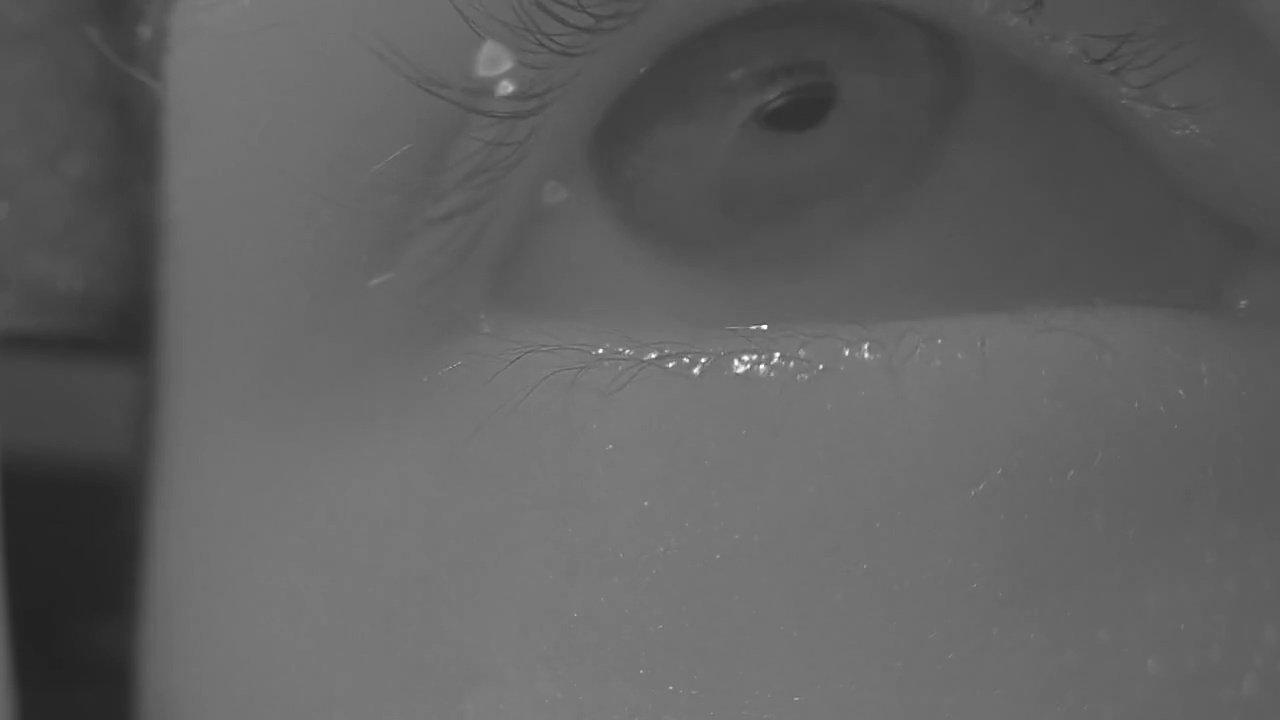pupil: (749, 61, 837, 132)
